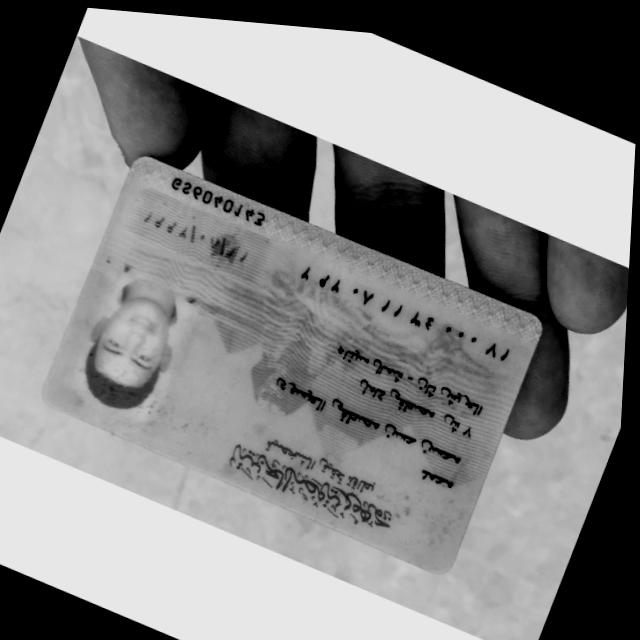id_card: (42, 158, 542, 574)
